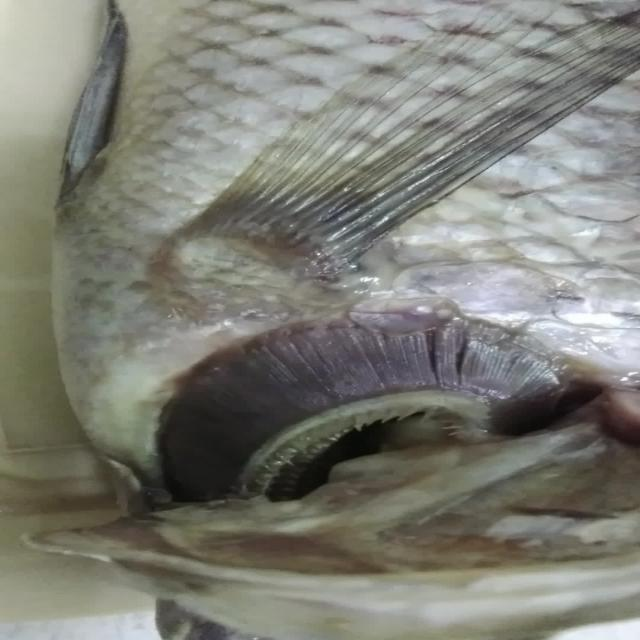Non-Fresh: (154, 300, 597, 506)
